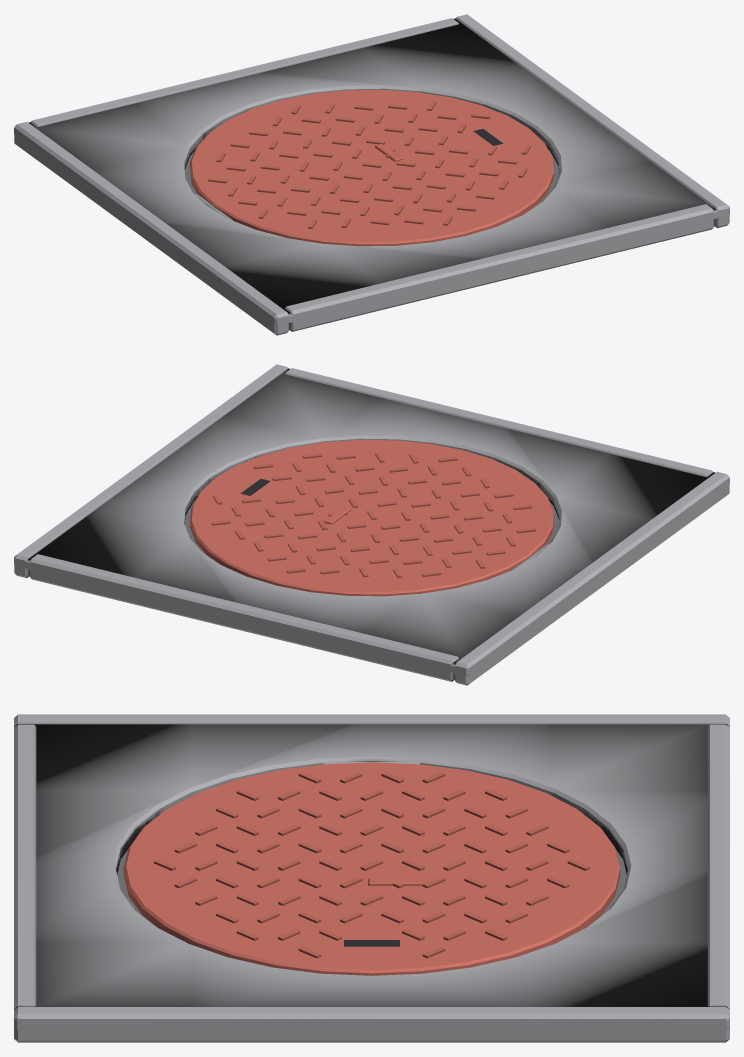
Rendered from lid.glb.
The picture shows the model from 3 angles, top to bottom: view 1: azimuth 30°, elevation 25°; view 2: azimuth 150°, elevation 25°; view 3: azimuth 270°, elevation 25°; orthographic projection. The views are drawn at different scales.
Parts seen in each view (by area): view 1: PART, LID; view 2: PART, LID; view 3: PART, LID.
Boxes of the visible parts, x1,y1,x2,y2 form: PART: (14, 14, 729, 335); LID: (190, 90, 553, 246); PART: (14, 364, 729, 685); LID: (190, 440, 553, 596); PART: (14, 714, 729, 1042); LID: (123, 762, 620, 975).
Bounding box in the file's own units: 0.9 × 0.041 × 0.9.
